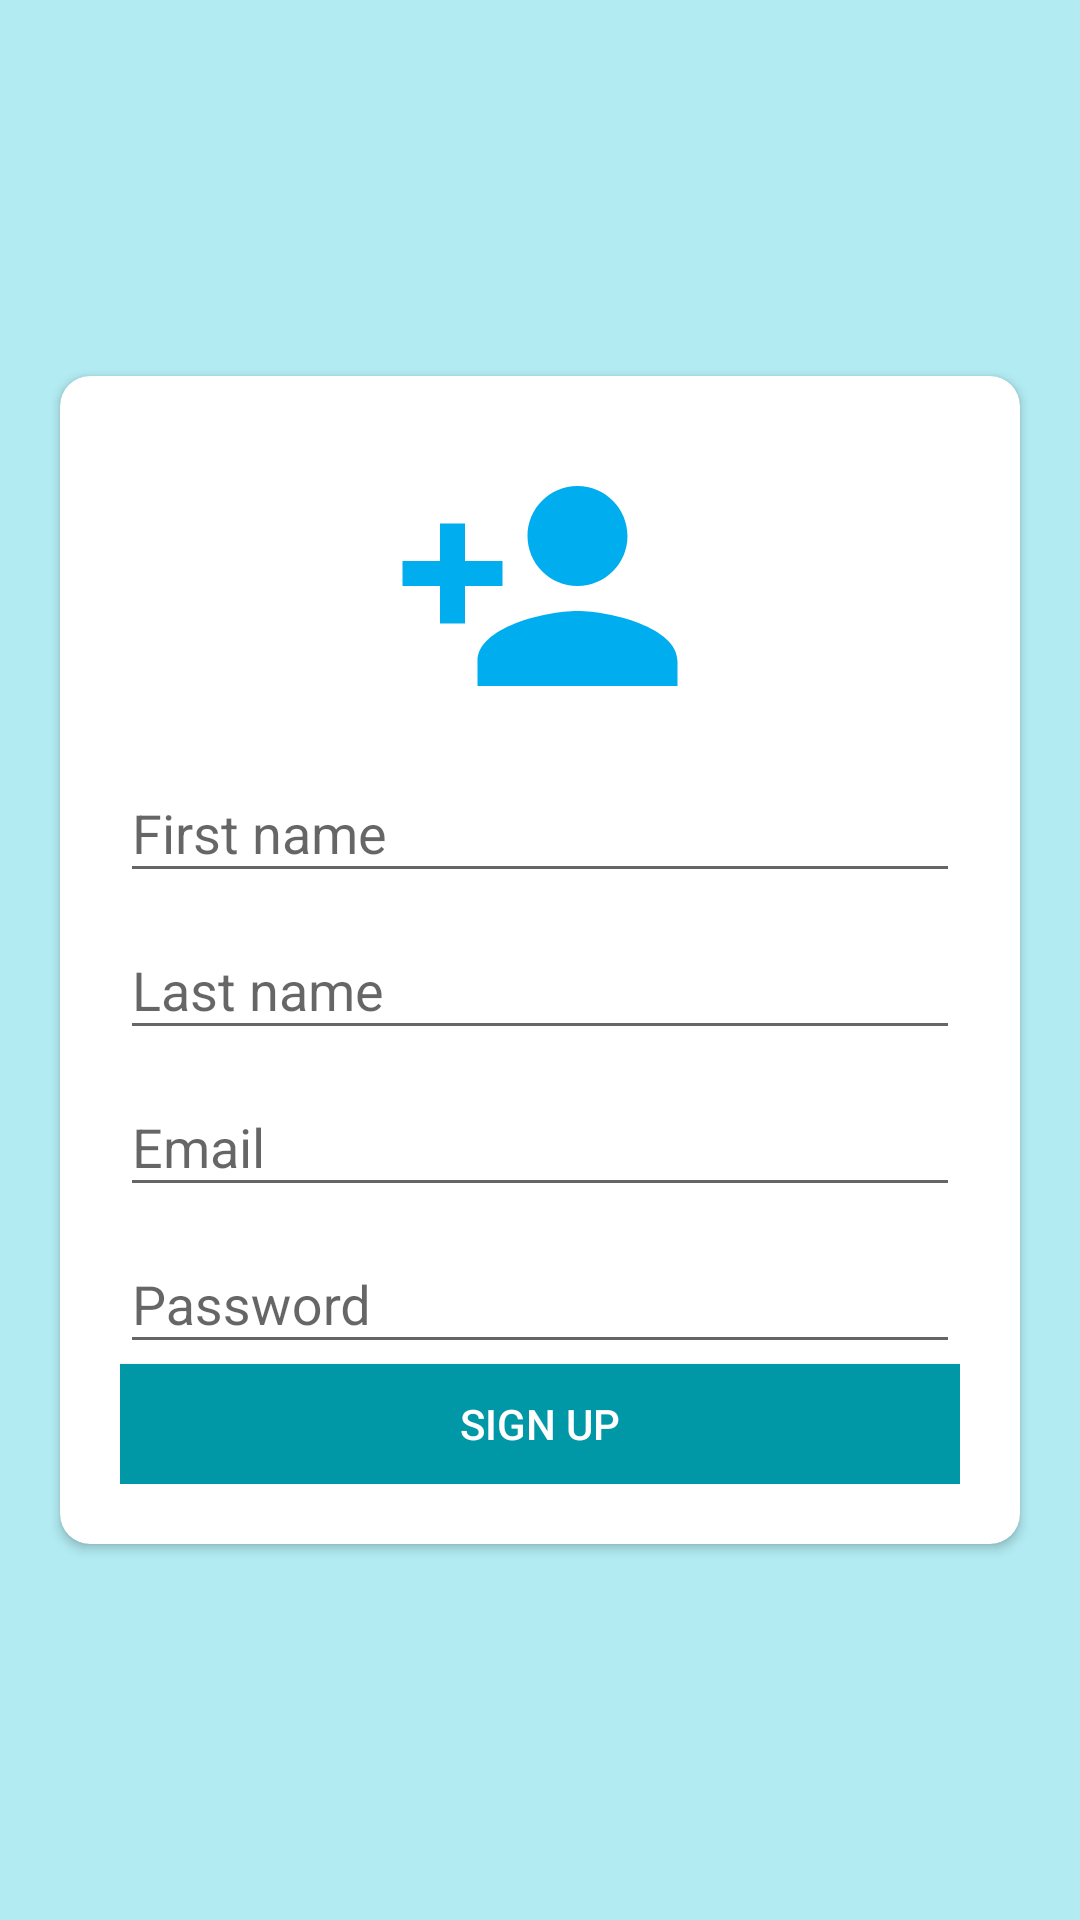

Where icons sit on this 1080w x 1920h app screen, as (x1, y1, x2, y2):
person add: (402, 486, 678, 686)
